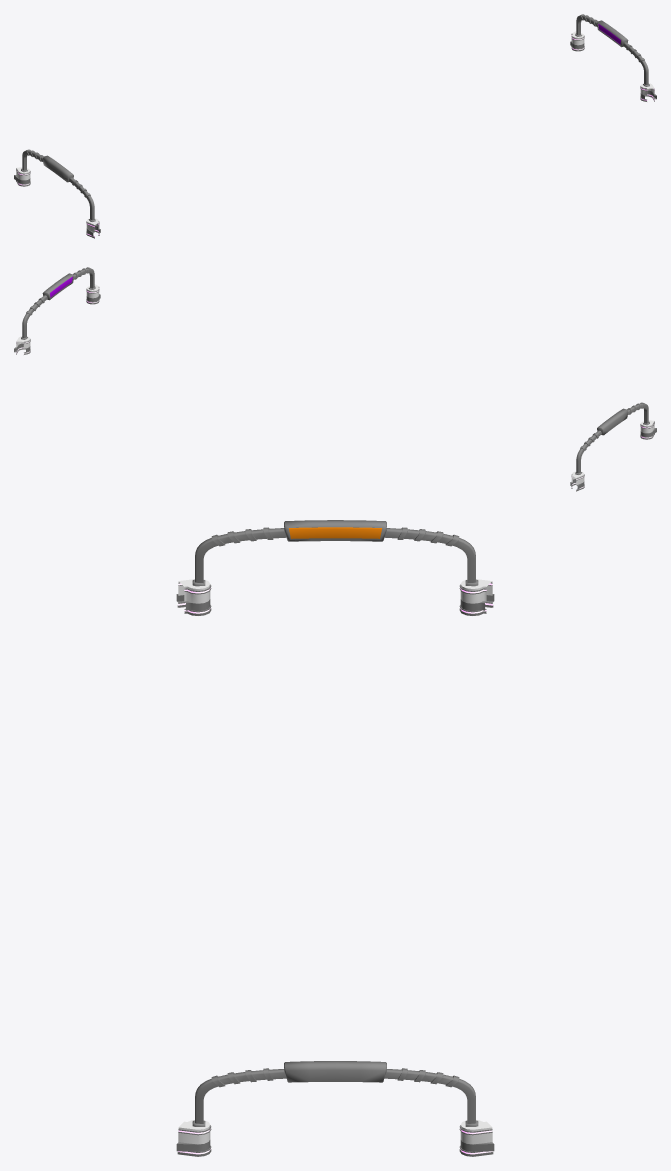
The model's file is mesh_Galaxy_Hockey_Goal.fbx.
The picture shows the model from 3 angles, top to bottom: view 1: azimuth 30°, elevation 25°; view 2: azimuth 150°, elevation 25°; view 3: azimuth 270°, elevation 25°; orthographic projection. The views are drawn at different scales.
Visible parts, largest first — view 1: mesh_Galaxy_Hockey_Goal; view 2: mesh_Galaxy_Hockey_Goal; view 3: mesh_Galaxy_Hockey_Goal.
Part boxes in pixels (left/top/right/bottom): mesh_Galaxy_Hockey_Goal: left=14, top=14, right=656, bottom=238; mesh_Galaxy_Hockey_Goal: left=14, top=267, right=656, bottom=491; mesh_Galaxy_Hockey_Goal: left=176, top=520, right=494, bottom=1156.
Size of the model in its own units: 50.71 by 3.81 by 12.33.
